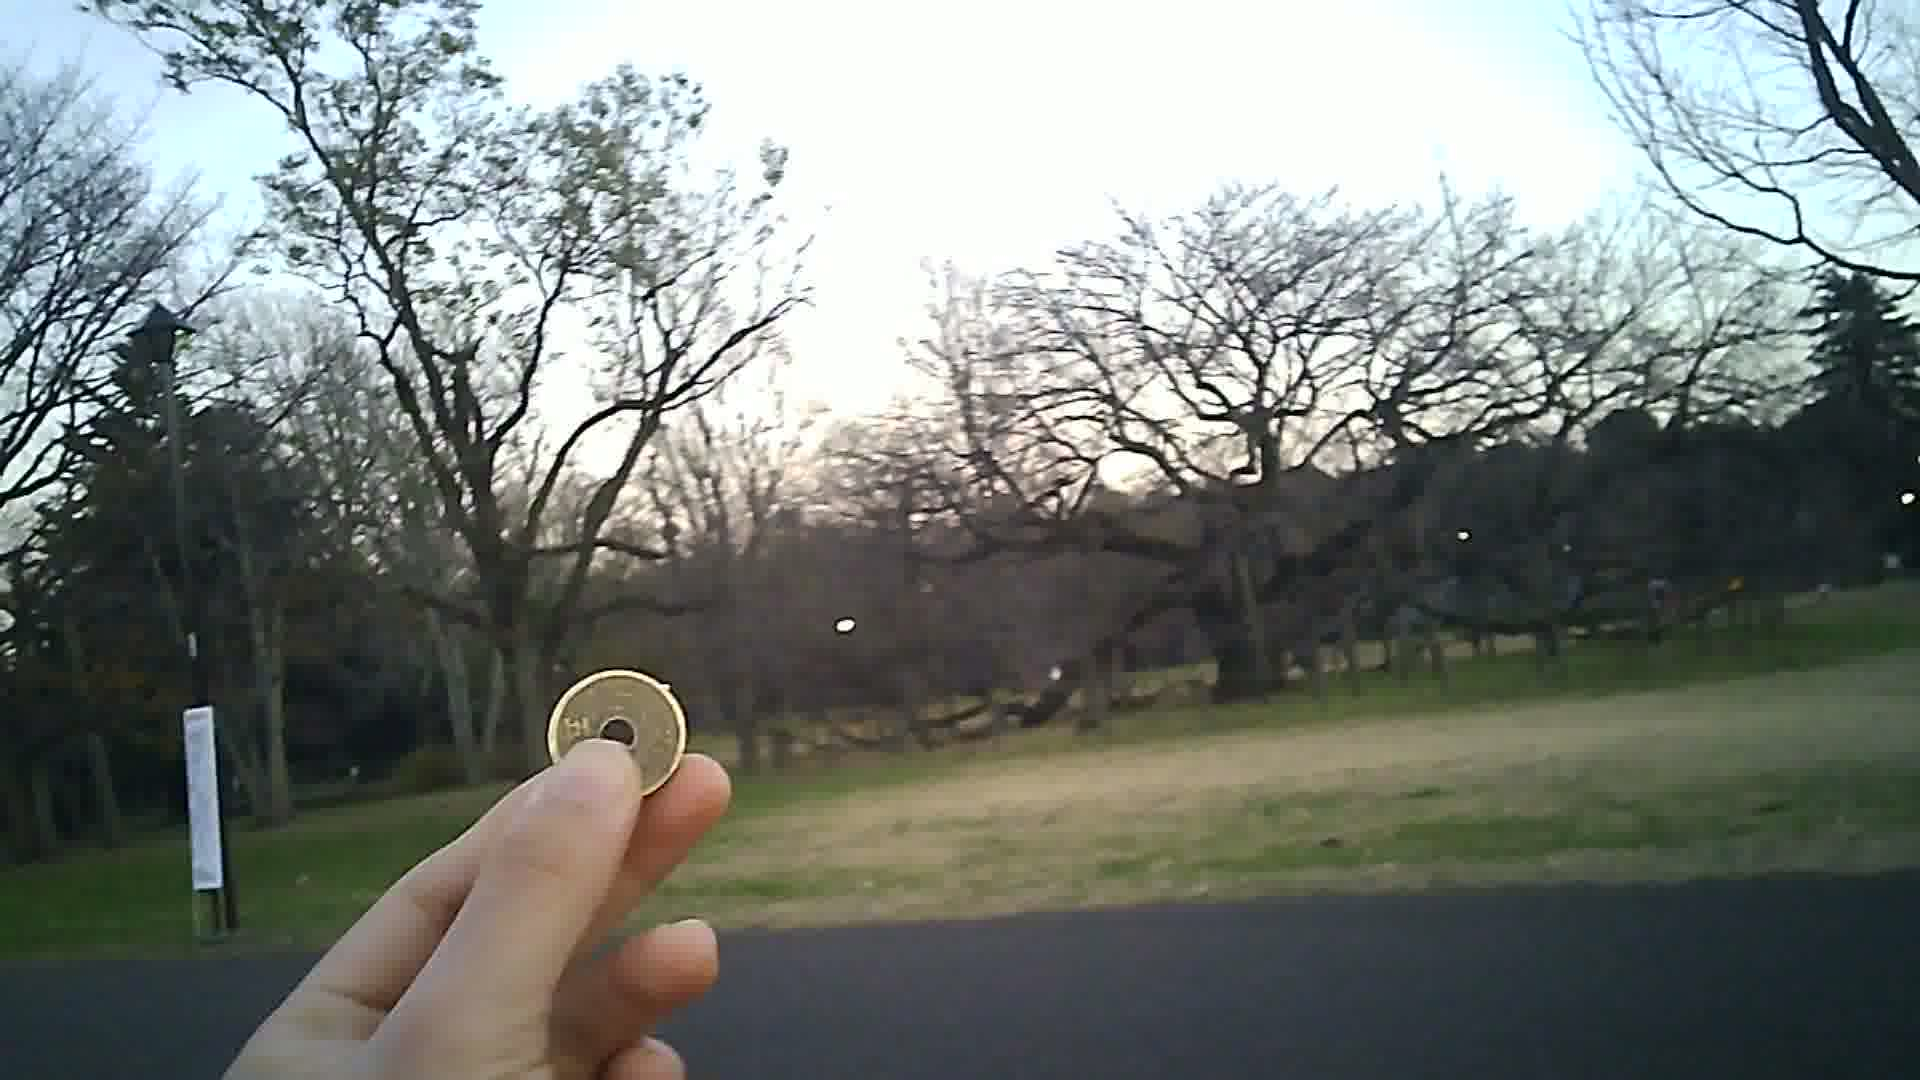5 Yen: (549, 659, 691, 793)
